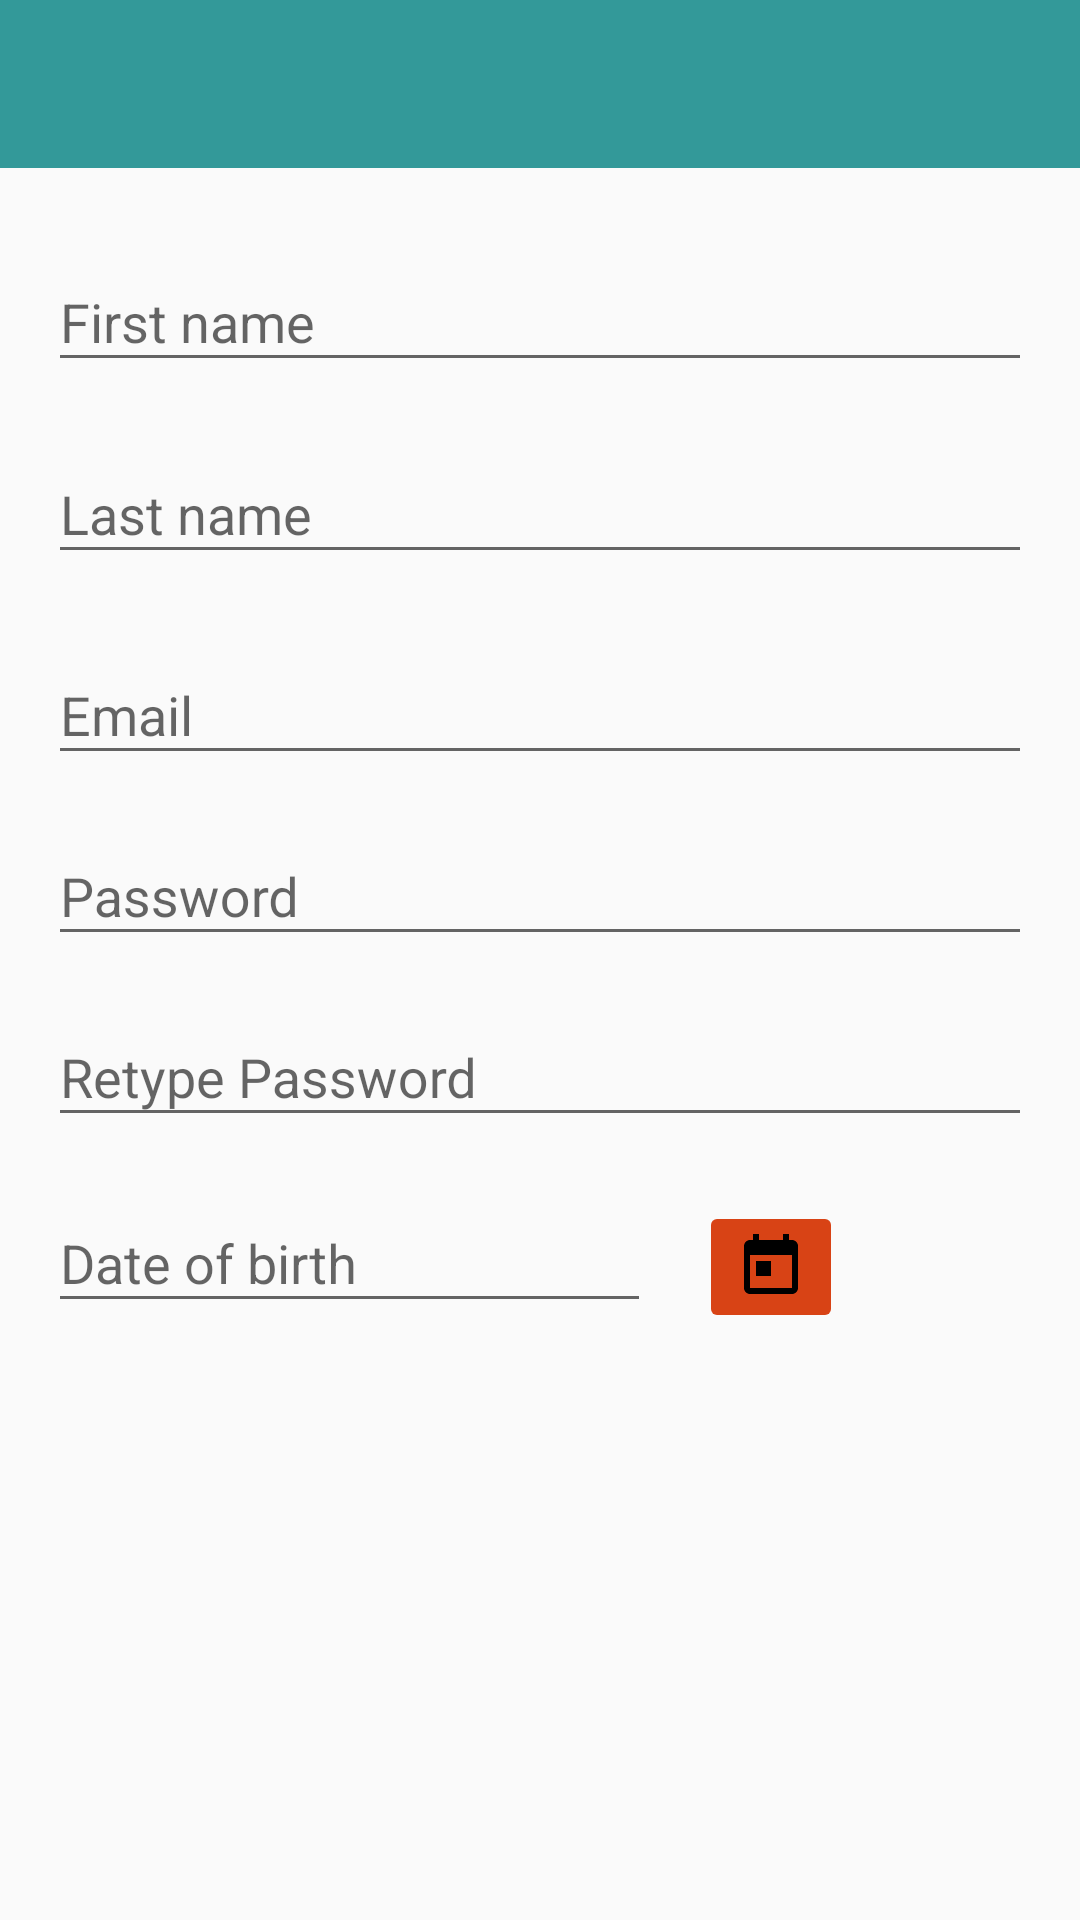

Screen size 1080px×1920px. Icon name, then its center in pixels as [x,y]:
calendar: [771,1267]
